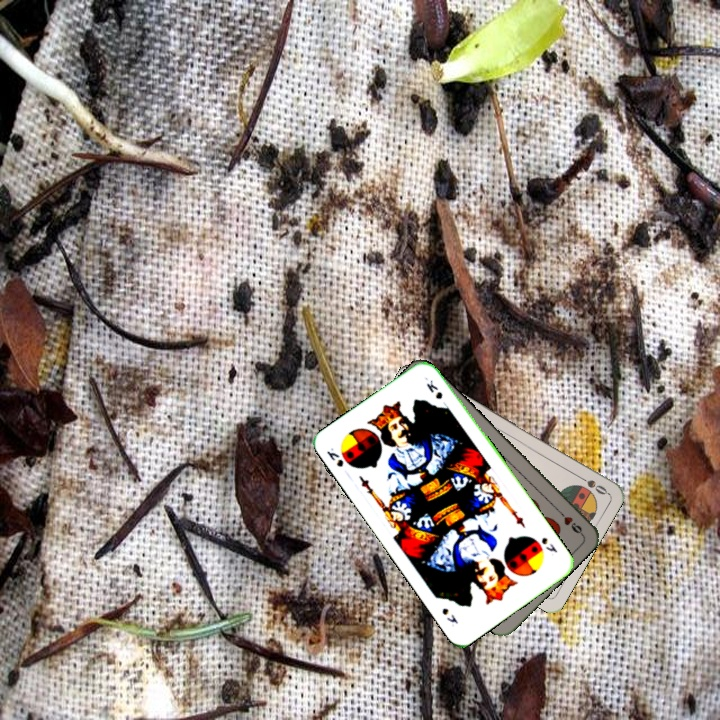H9: (553, 505, 585, 538)
SK: (322, 443, 346, 470), (537, 533, 560, 555)
SO: (573, 471, 610, 497)
